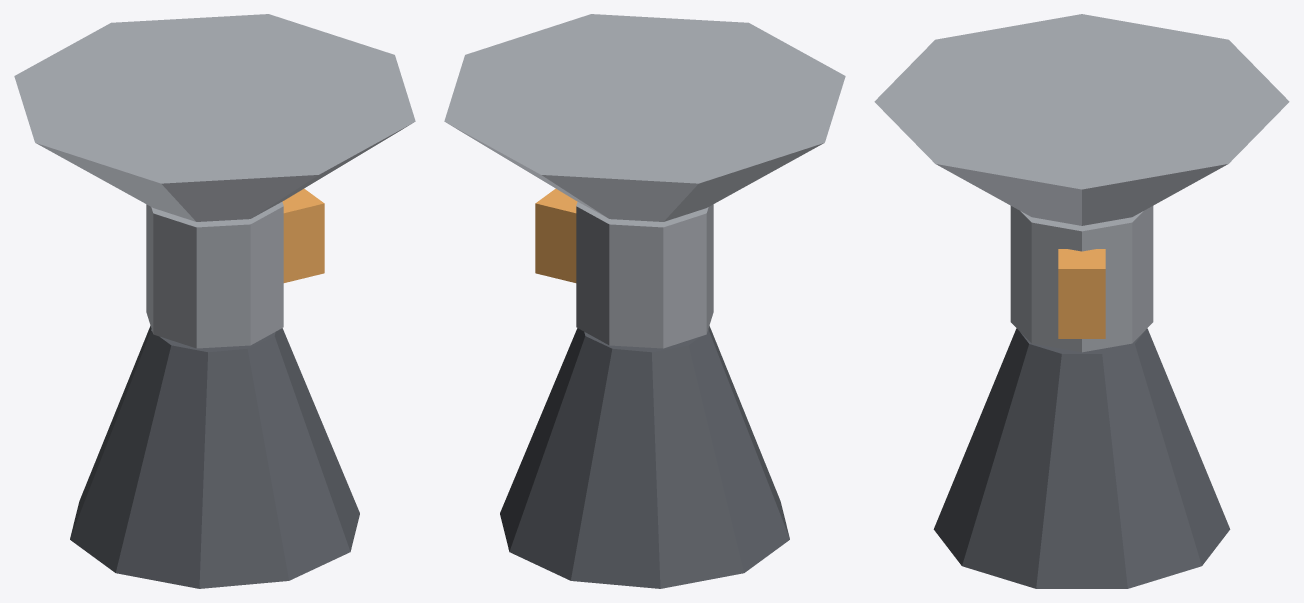
Rendered from engine_mini.glb.
The picture shows the model from 3 angles, left to right: view 1: azimuth 30°, elevation 25°; view 2: azimuth 150°, elevation 25°; view 3: azimuth 270°, elevation 25°; orthographic projection.
Parts seen in each view (by area): view 1: engine_mini; view 2: engine_mini; view 3: engine_mini.
Part boxes in pixels (<box>): engine_mini: <box>14,14,415,588</box>; engine_mini: <box>444,14,845,588</box>; engine_mini: <box>874,14,1289,588</box>.
Bounding box in the file's own units: 1.4 × 1.59 × 1.4.
